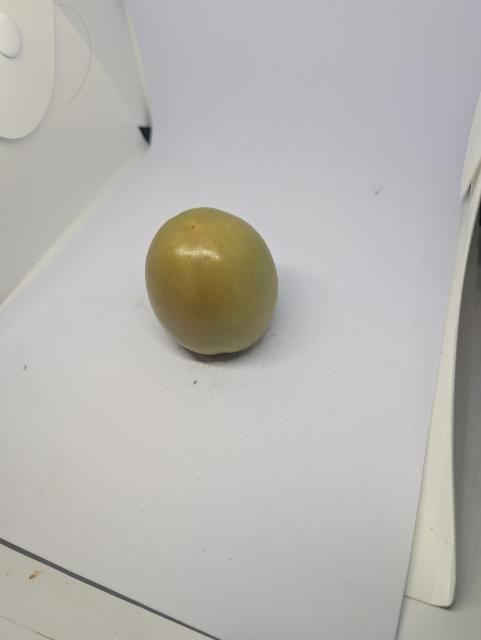breaker: (146, 209, 294, 374)
